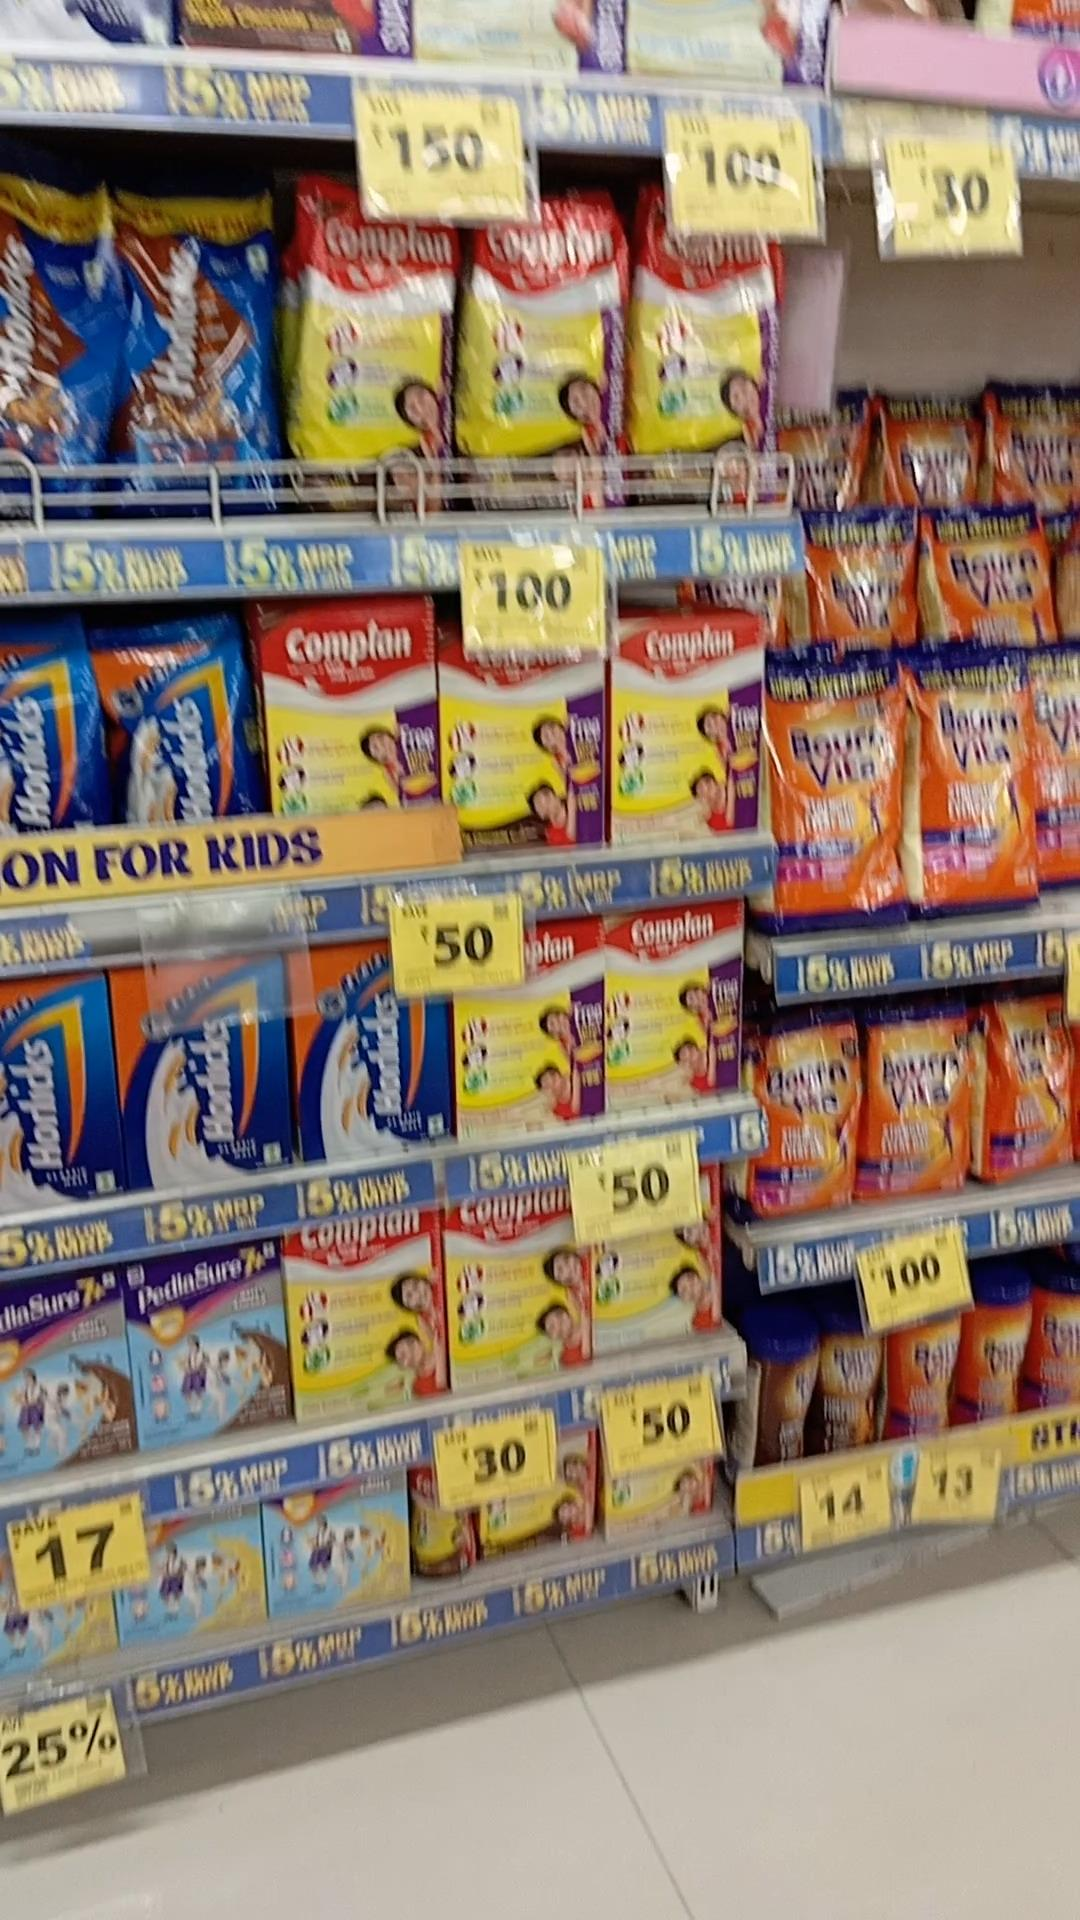BOURN_VITA_1_KG_POUCH: (774, 673, 902, 934), (918, 658, 1034, 920), (795, 500, 916, 653), (935, 508, 1048, 653)
BOURN_VITA_500_G_JAR: (973, 1251, 1044, 1407), (893, 1294, 964, 1432)
BOURN_VITA_750_G_POUCH: (732, 986, 845, 1204), (848, 989, 969, 1184), (996, 956, 1080, 1158)
BOURN_VITA_FIVE_STAR_MAGIC_500_G_JAR: (815, 1296, 881, 1440), (756, 1315, 814, 1453)
COMPLAN_CHOCOLATE_500_GMS_PACK: (443, 640, 607, 855), (268, 618, 436, 804)
COMPLAN_CREAMY_CLASSIC_500_G_PACK: (593, 1221, 717, 1350)
COMPLAN_KESAR_BADAM_500_GMS_PACK: (612, 626, 758, 841), (458, 927, 596, 1142), (611, 898, 737, 1121)
COMPLAN_PISTA_BADAM_500_GMS_PACK: (297, 1213, 439, 1425), (451, 1205, 585, 1381)
COMPLAN_RC_POUCH_700_GMS_12: (301, 194, 452, 509), (636, 165, 775, 502), (477, 198, 617, 509)
HORLICK_CHOCOLATE_750_G_POUCH: (123, 196, 274, 514), (0, 174, 111, 520)
HORLICK_CLASSIC_MALT_500_G_PACK: (127, 952, 276, 1195), (293, 944, 439, 1158), (0, 975, 119, 1211)
HORLICK_CLASSIC_MALT_750_G_POUCH: (115, 622, 253, 839), (0, 615, 102, 835)
PEDIASURE_7_PLUS_CHOCOLATE_400_G_PACK: (136, 1249, 285, 1448), (0, 1267, 125, 1485)
